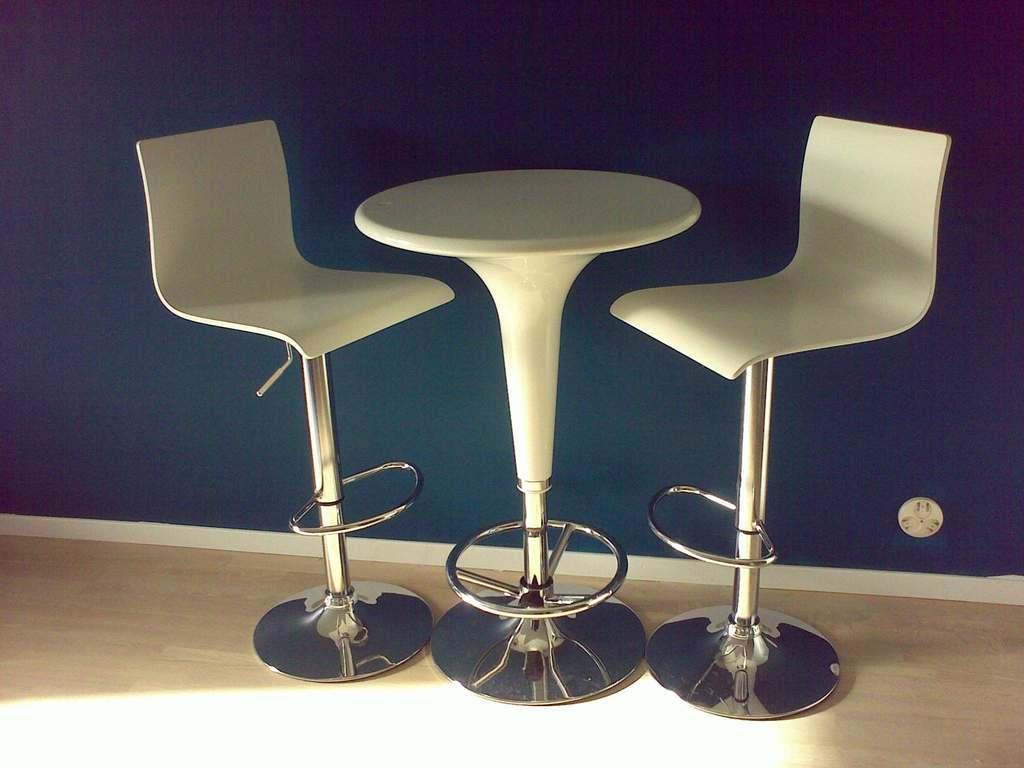Chair: (609, 115, 953, 722), (132, 119, 456, 684)
